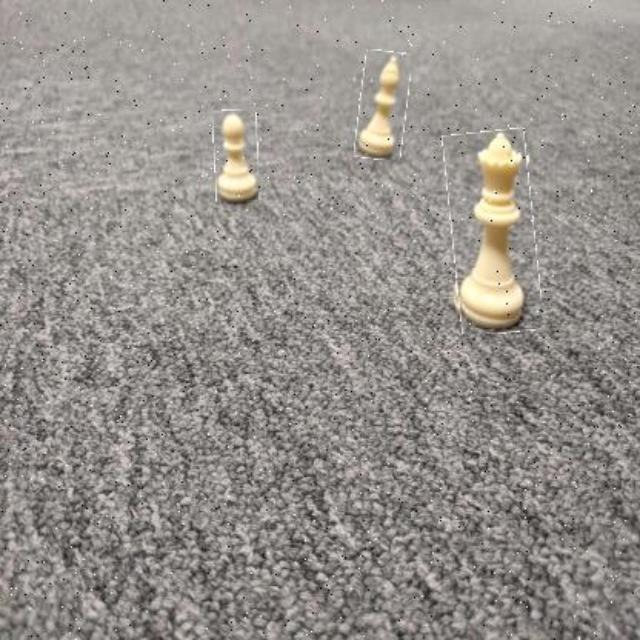white-bishop: (357, 51, 409, 160)
white-pawn: (215, 110, 259, 203)
white-queen: (448, 130, 538, 334)
